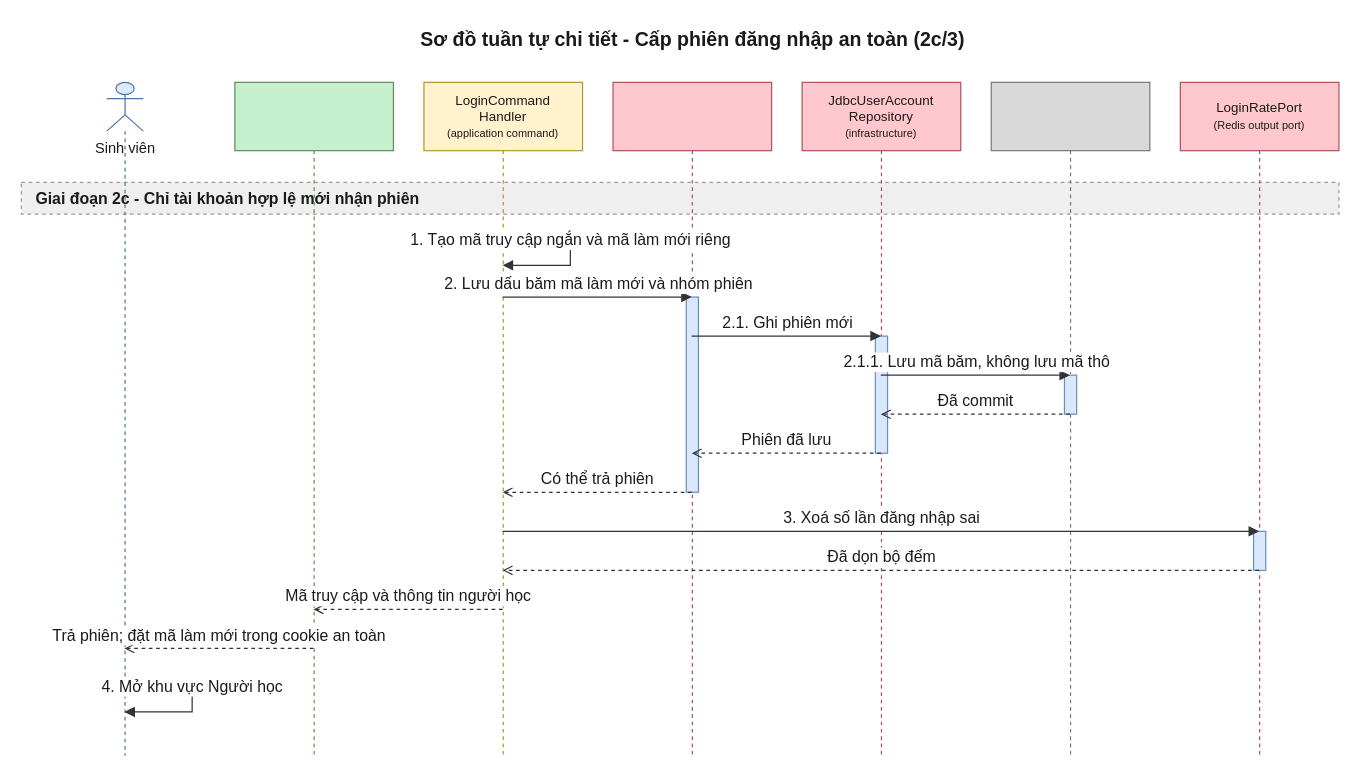
Image size: 1360x777. Some labels were removed from this diagram. Each missing label, with the box of its shape:
AuthController (presentation): (234, 81, 393, 756)
PostgreSQL (schema identity): (990, 81, 1150, 756)
RefreshToken Repository (domain output port): (612, 81, 772, 756)
